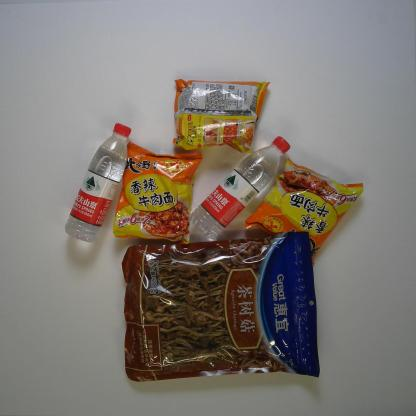Dried Food: (119, 230, 323, 386)
Drink: (189, 134, 293, 243), (65, 120, 132, 246)
Instant Noodles: (241, 156, 364, 266), (110, 141, 202, 246), (169, 75, 271, 156)
